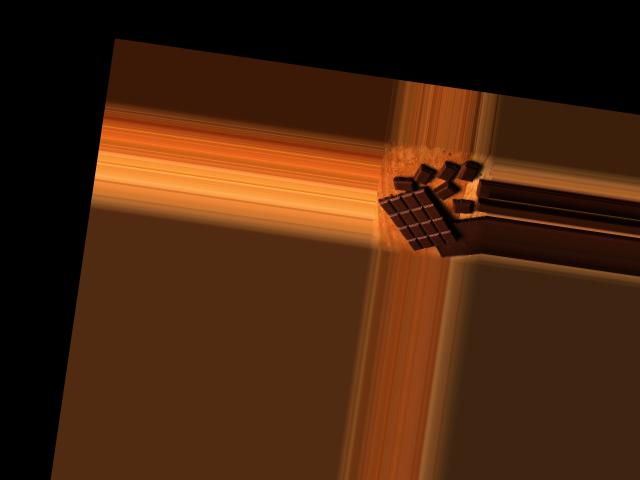chocolate: (374, 177, 465, 256)
